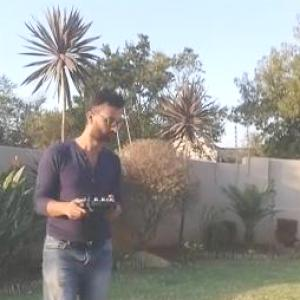follow: (33, 80, 130, 299)
